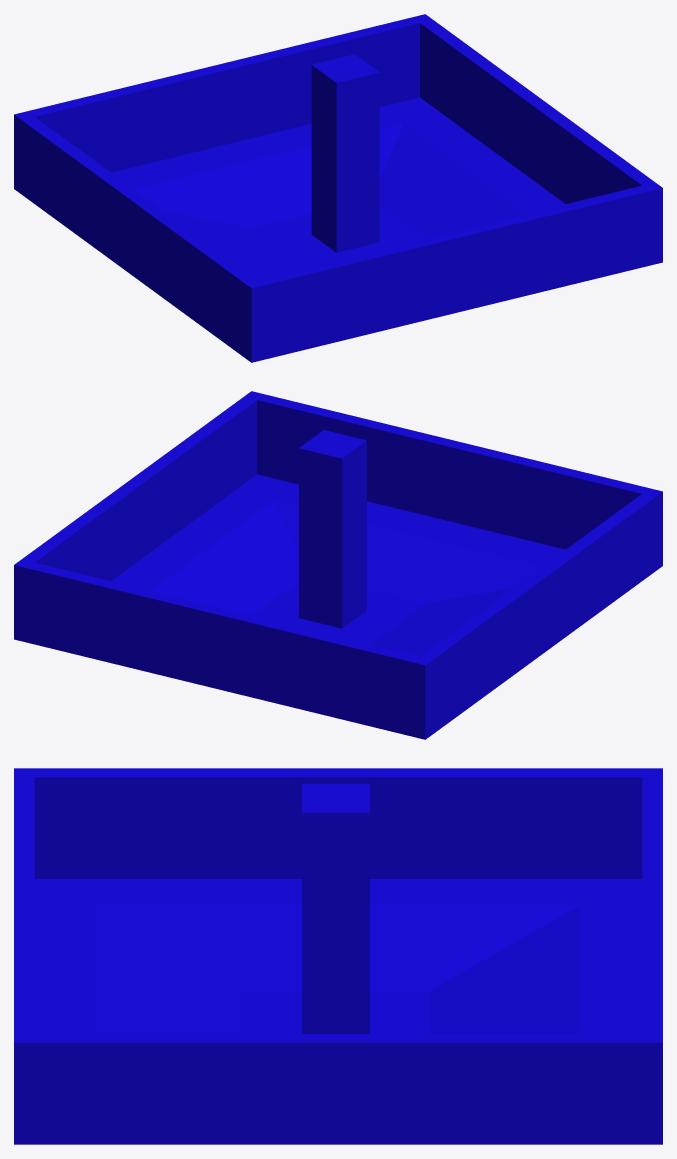
Rendered from map.glb.
3 views of the same model, one above another, from view 1: azimuth 30°, elevation 25°; view 2: azimuth 150°, elevation 25°; view 3: azimuth 270°, elevation 25° (orthographic). The views are drawn at different scales.
Visible parts, largest first — view 1: Plane-col; view 2: Plane-col; view 3: Plane-col.
Part boxes in pixels (<box>): Plane-col: <box>14,14,662,362</box>; Plane-col: <box>14,391,662,739</box>; Plane-col: <box>14,768,662,1144</box>.
Size of the model in its own units: 44.5 by 17.57 by 44.5.
